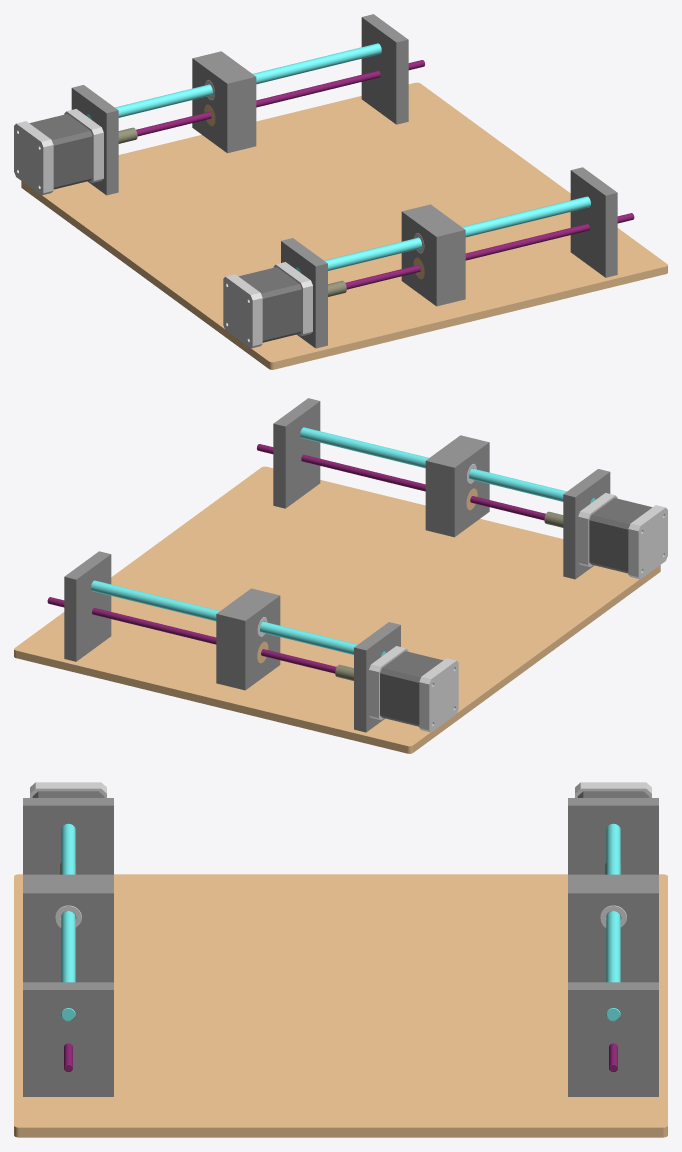
The picture shows the model from 3 angles, top to bottom: view 1: azimuth 30°, elevation 25°; view 2: azimuth 150°, elevation 25°; view 3: azimuth 270°, elevation 25°; orthographic projection. The views are drawn at different scales.
Parts seen in each view (by area): view 1: out-base, out-XR-carriage-block, out-XL-carriage-block, out-XR-idle_end-block, out-XL-idle_end-block, out-XR-drive-stepper-stator, out-XL-drive-stepper-stator, out-XR-rails-rail_0000, out-XL-rails-rail_0000, out-XL-drive-stepper-botcap, out-XR-drive-stepper-botcap, out-XR-drive_end-block (+5 smaller); view 2: out-base, out-XL-carriage-block, out-XR-carriage-block, out-XL-idle_end-block, out-XR-idle_end-block, out-XR-drive-stepper-stator, out-XL-drive-stepper-stator, out-XL-rails-rail_0000, out-XR-rails-rail_0000, out-XR-drive-stepper-botcap, out-XL-drive-stepper-botcap, out-XL-drive_end-block (+5 smaller); view 3: out-base, out-XR-idle_end-block, out-XL-idle_end-block, out-XR-carriage-block, out-XL-carriage-block, out-XR-drive_end-block, out-XL-drive_end-block, out-XR-rails-rail_0000, out-XL-rails-rail_0000, out-XR-drive-stepper-botcap, out-XL-drive-stepper-botcap.
Part boxes in pixels (left/top/right/bottom): out-base: left=21, top=82, right=667, bottom=369; out-XR-carriage-block: left=192, top=51, right=256, bottom=153; out-XL-carriage-block: left=401, top=204, right=465, bottom=306; out-XR-idle_end-block: left=361, top=14, right=408, bottom=124; out-XL-idle_end-block: left=570, top=167, right=617, bottom=277; out-XR-drive-stepper-stator: left=29, top=114, right=92, bottom=189; out-XL-drive-stepper-stator: left=238, top=267, right=301, bottom=342; out-XR-rails-rail_0000: left=86, top=43, right=381, bottom=119; out-XL-rails-rail_0000: left=296, top=196, right=590, bottom=272; out-XL-drive-stepper-botcap: left=223, top=274, right=262, bottom=348; out-XR-drive-stepper-botcap: left=14, top=121, right=53, bottom=195; out-XR-drive_end-block: left=71, top=85, right=118, bottom=195; out-base: left=14, top=466, right=660, bottom=753; out-XL-carriage-block: left=425, top=435, right=489, bottom=537; out-XR-carriage-block: left=216, top=588, right=280, bottom=690; out-XL-idle_end-block: left=273, top=398, right=320, bottom=508; out-XR-idle_end-block: left=64, top=551, right=111, bottom=661; out-XR-drive-stepper-stator: left=380, top=651, right=443, bottom=726; out-XL-drive-stepper-stator: left=589, top=498, right=652, bottom=573; out-XL-rails-rail_0000: left=300, top=427, right=595, bottom=503; out-XR-rails-rail_0000: left=91, top=580, right=385, bottom=656; out-XR-drive-stepper-botcap: left=419, top=658, right=458, bottom=732; out-XL-drive-stepper-botcap: left=628, top=505, right=667, bottom=579; out-XL-drive_end-block: left=563, top=469, right=610, bottom=579; out-base: left=14, top=874, right=667, bottom=1137; out-XR-idle_end-block: left=568, top=982, right=658, bottom=1096; out-XL-idle_end-block: left=23, top=982, right=113, bottom=1096; out-XR-carriage-block: left=568, top=874, right=658, bottom=982; out-XL-carriage-block: left=23, top=874, right=113, bottom=982; out-XR-drive_end-block: left=568, top=798, right=658, bottom=874; out-XL-drive_end-block: left=23, top=798, right=113, bottom=874; out-XR-rails-rail_0000: left=606, top=823, right=620, bottom=1020; out-XL-rails-rail_0000: left=61, top=823, right=75, bottom=1020; out-XR-drive-stepper-botcap: left=575, top=782, right=651, bottom=797; out-XL-drive-stepper-botcap: left=30, top=782, right=106, bottom=797.
Size of the model in its own units: 0.34 by 0.071 by 0.36.
